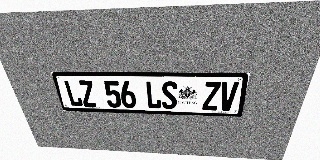5: (103, 81, 122, 108)
6: (119, 81, 137, 108)
L: (63, 80, 84, 107), (145, 81, 162, 109)
S: (161, 81, 177, 109)
V: (218, 82, 239, 111)
Z: (77, 80, 98, 107), (202, 82, 221, 110)
